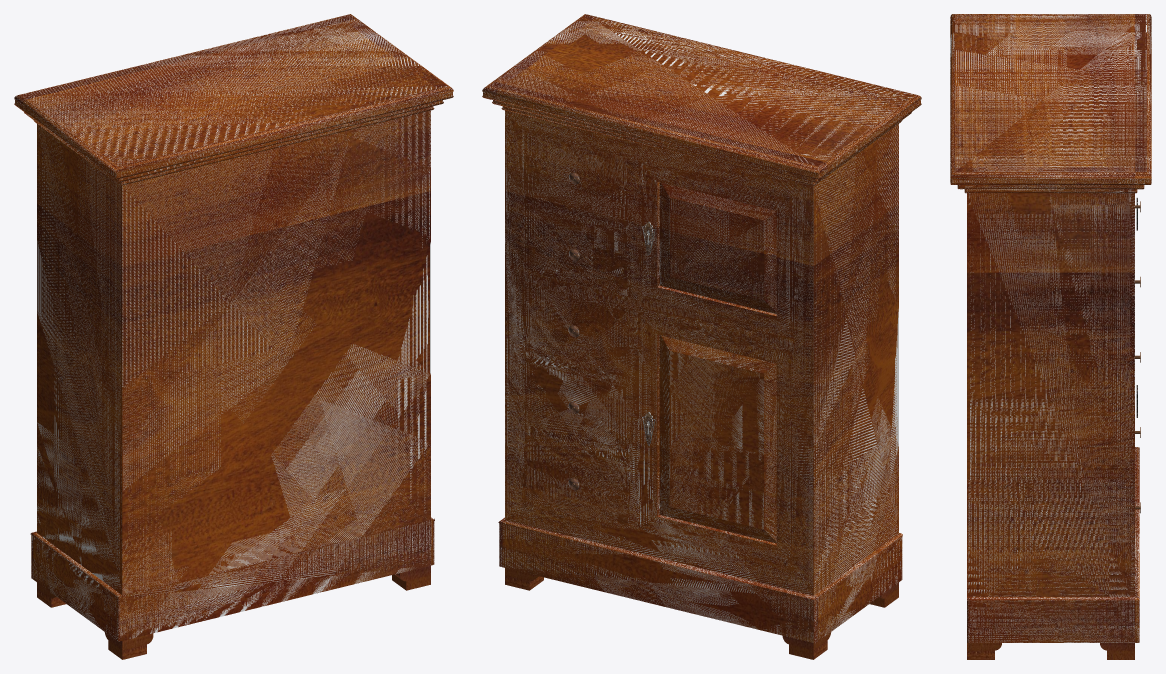
The picture shows the model from 3 angles, left to right: view 1: azimuth 30°, elevation 25°; view 2: azimuth 150°, elevation 25°; view 3: azimuth 270°, elevation 25°; orthographic projection.
Parts seen in each view (by area): view 1: mesh16_mesh16-geometry, mesh1_mesh1-geometry; view 2: mesh16_mesh16-geometry, mesh1_mesh1-geometry; view 3: mesh16_mesh16-geometry, mesh1_mesh1-geometry.
Part boxes in pixels (x1,y1,x2,y2): mesh16_mesh16-geometry: [14, 14, 453, 641]; mesh1_mesh1-geometry: [37, 565, 430, 659]; mesh16_mesh16-geometry: [482, 14, 921, 643]; mesh1_mesh1-geometry: [505, 568, 898, 659]; mesh16_mesh16-geometry: [950, 14, 1151, 642]; mesh1_mesh1-geometry: [967, 643, 1134, 659].
Size of the model in its own units: 0.5518 by 0.7822 by 0.2894.
